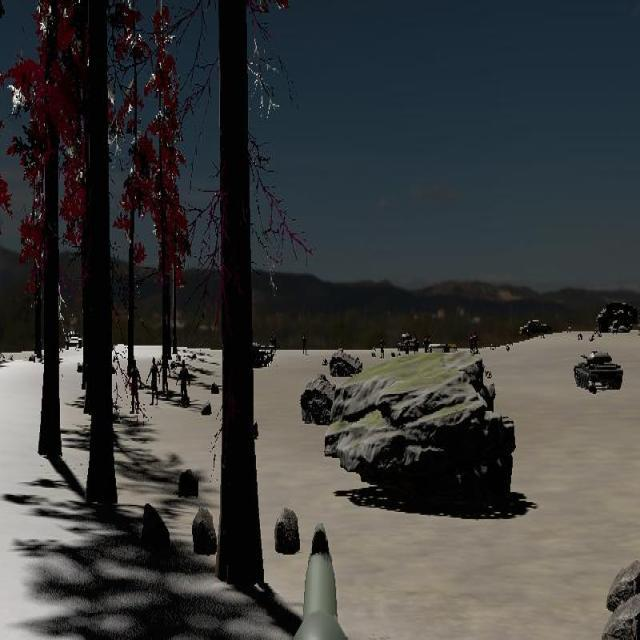Tank: (573, 349, 623, 392)
